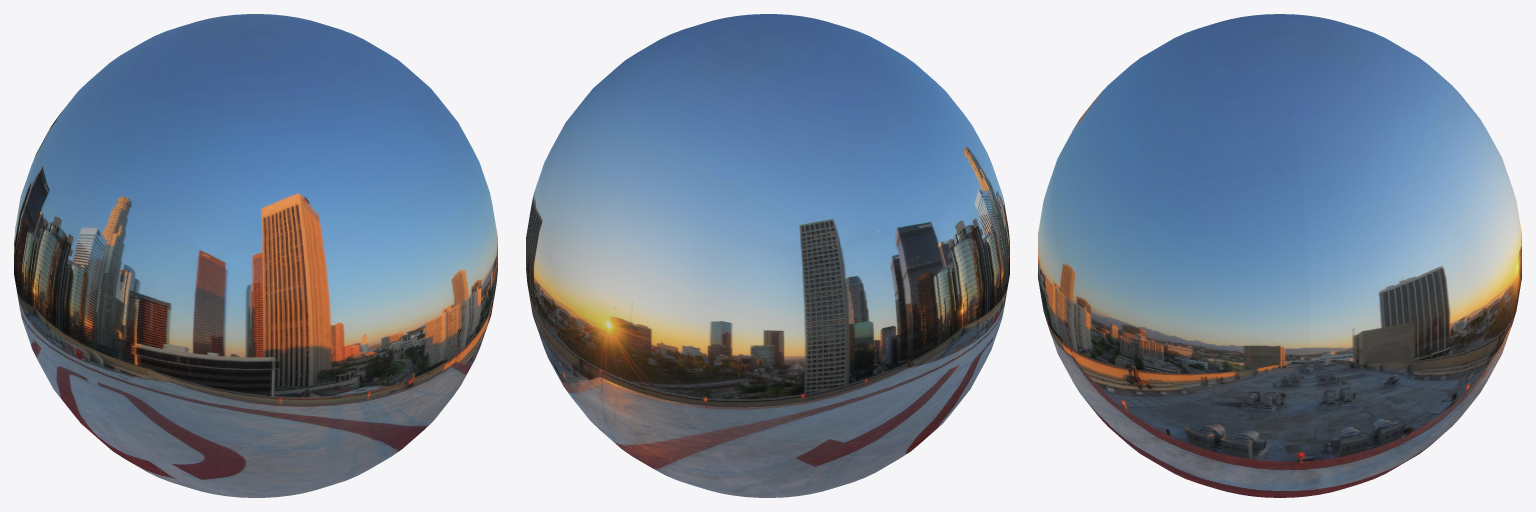
File: la_helipad.glb
3 views of the same model, side by side, from view 1: azimuth 30°, elevation 25°; view 2: azimuth 150°, elevation 25°; view 3: azimuth 270°, elevation 25° (orthographic).
Parts seen in each view (by area): view 1: PanoSphere_outside; view 2: PanoSphere_outside; view 3: PanoSphere_outside.
Part boxes in pixels (<box>): PanoSphere_outside: <box>14,14,497,497</box>; PanoSphere_outside: <box>526,14,1009,497</box>; PanoSphere_outside: <box>1038,14,1521,497</box>.
Bounding box in the file's own units: 2.5 × 2.5 × 2.5.
Materials: 1 (1 with a texture image).
